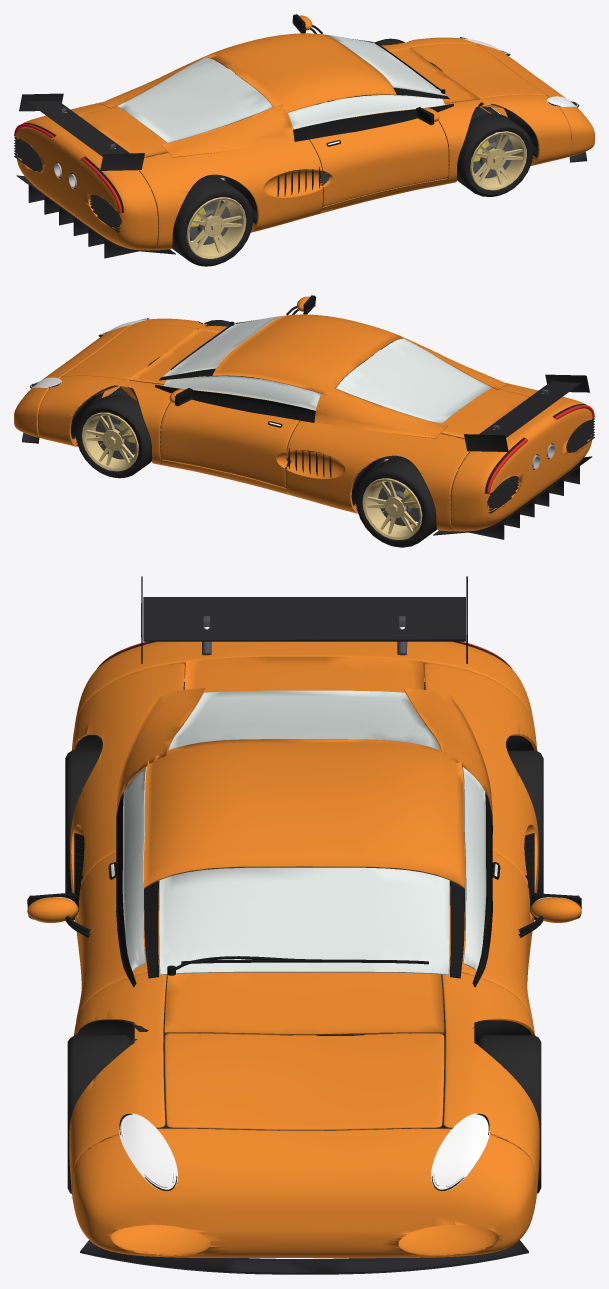
File: Car4.fbx
3 views of the same model, one above another, from view 1: azimuth 30°, elevation 25°; view 2: azimuth 150°, elevation 25°; view 3: azimuth 270°, elevation 25° (orthographic). The views are drawn at different scales.
Parts seen in each view (by area): view 1: Body, Wheel_RR.001, Wheel_FR.001; view 2: Body, Wheel_RL.001, Wheel_FL.001; view 3: Body, Wheel_FL.001, Wheel_FR.001, Wheel_RR.001, Wheel_RL.001.
Part boxes in pixels (<box>): Body: <box>14,14,594,258</box>; Wheel_RR.001: <box>172,176,252,266</box>; Wheel_FR.001: <box>457,113,533,196</box>; Body: <box>14,295,594,539</box>; Wheel_RL.001: <box>356,457,436,547</box>; Wheel_FL.001: <box>76,394,151,478</box>; Body: <box>27,576,581,1274</box>; Wheel_FL.001: <box>477,1035,541,1193</box>; Wheel_FR.001: <box>67,1035,131,1193</box>; Wheel_RR.001: <box>65,750,101,920</box>; Wheel_RL.001: <box>507,750,543,920</box>.
Size of the model in its own units: 4.66 by 1.2 by 2.27.
